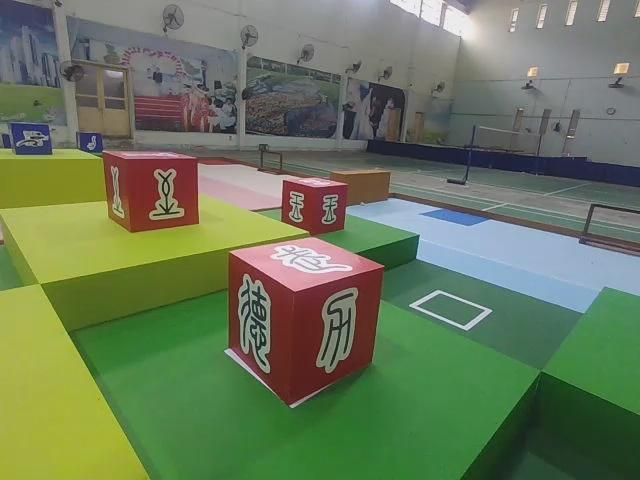R2 Fake: (229, 237, 383, 408)
R2 Real: (104, 149, 201, 235), (280, 173, 349, 235)
